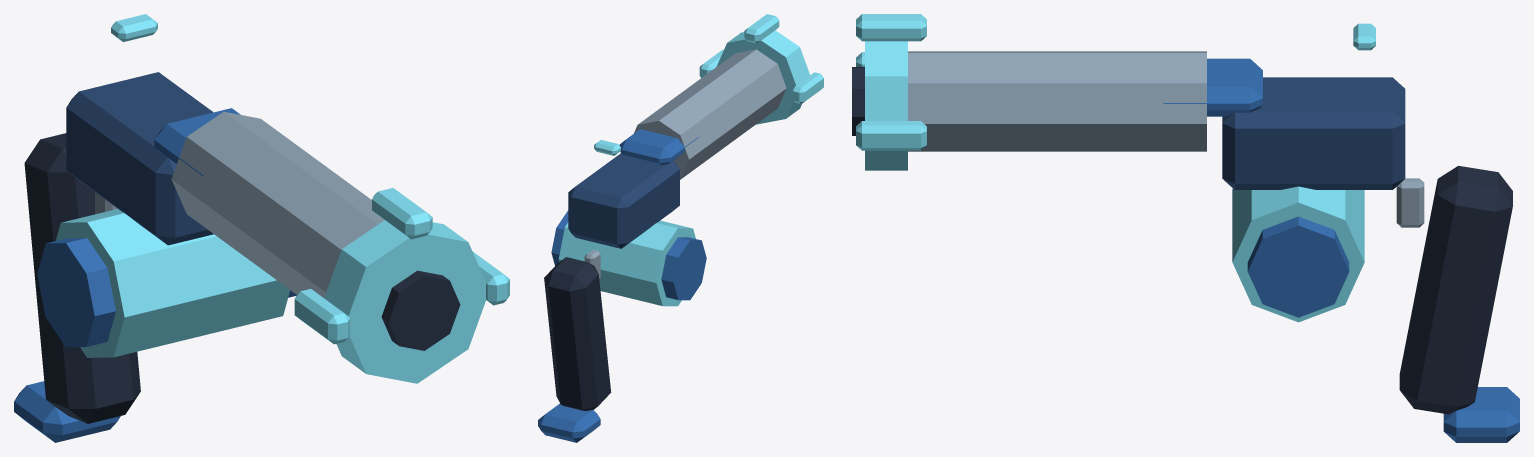
The model's file is FreezeGun.glb.
3 renders of one model, left to right at view 1: azimuth 30°, elevation 25°; view 2: azimuth 150°, elevation 25°; view 3: azimuth 270°, elevation 25°, orthographic. The views are drawn at different scales.
Visible parts, largest first — view 1: ColdBarrel, CryoCanister, Receiver, IceMuzzleRing, Grip, CanisterCapLeft, MuzzleCore, GripCap, ProngLeft, ProngTop, UpperShell, ProngRight (+1 smaller); view 2: ColdBarrel, Grip, Receiver, CryoCanister, IceMuzzleRing, CanisterCapLeft, GripCap, UpperShell, ProngLeft, ProngTop, CanisterCapRight, RearSight (+1 smaller); view 3: ColdBarrel, Receiver, Grip, CryoCanister, CanisterCapRight, IceMuzzleRing, GripCap, UpperShell, ProngRight, ProngTop, Trigger, MuzzleCore.
Part boxes in pixels (x1=…): ColdBarrel: x1=171, y1=111, x2=384, y2=297; CryoCanister: x1=56, y1=209, x2=290, y2=357; Receiver: x1=66, y1=72, x2=213, y2=245; IceMuzzleRing: x1=324, y1=220, x2=485, y2=383; Grip: x1=24, y1=133, x2=140, y2=423; CanisterCapLeft: x1=37, y1=238, x2=115, y2=347; MuzzleCore: x1=381, y1=270, x2=460, y2=350; GripCap: x1=14, y1=381, x2=120, y2=442; ProngLeft: x1=294, y1=289, x2=350, y2=344; ProngTop: x1=372, y1=188, x2=432, y2=239; UpperShell: x1=154, y1=108, x2=240, y2=176; ProngRight: x1=472, y1=251, x2=509, y2=305; ColdBarrel: x1=634, y1=49, x2=786, y2=179; Grip: x1=544, y1=257, x2=611, y2=410; Receiver: x1=568, y1=153, x2=679, y2=248; CryoCanister: x1=558, y1=220, x2=695, y2=306; IceMuzzleRing: x1=716, y1=30, x2=809, y2=124; CanisterCapLeft: x1=661, y1=237, x2=706, y2=300; GripCap: x1=538, y1=403, x2=600, y2=442; UpperShell: x1=619, y1=129, x2=698, y2=164; ProngLeft: x1=791, y1=72, x2=823, y2=103; ProngTop: x1=744, y1=14, x2=779, y2=43; CanisterCapRight: x1=551, y1=210, x2=568, y2=265; RearSight: x1=594, y1=140, x2=620, y2=155; ColdBarrel: x1=908, y1=51, x2=1206, y2=151; Receiver: x1=1222, y1=77, x2=1405, y2=189; Grip: x1=1399, y1=165, x2=1512, y2=414; CryoCanister: x1=1232, y1=186, x2=1364, y2=322; CanisterCapRight: x1=1247, y1=216, x2=1349, y2=317; IceMuzzleRing: x1=865, y1=41, x2=907, y2=170; GripCap: x1=1443, y1=387, x2=1519, y2=442; UpperShell: x1=1163, y1=58, x2=1262, y2=116; ProngRight: x1=856, y1=121, x2=926, y2=150; ProngTop: x1=856, y1=14, x2=926, y2=41; Trigger: x1=1396, y1=178, x2=1424, y2=227; MuzzleCore: x1=852, y1=67, x2=864, y2=135.
Bounding box in the file's own units: 0.425 × 0.8975 × 1.31.
